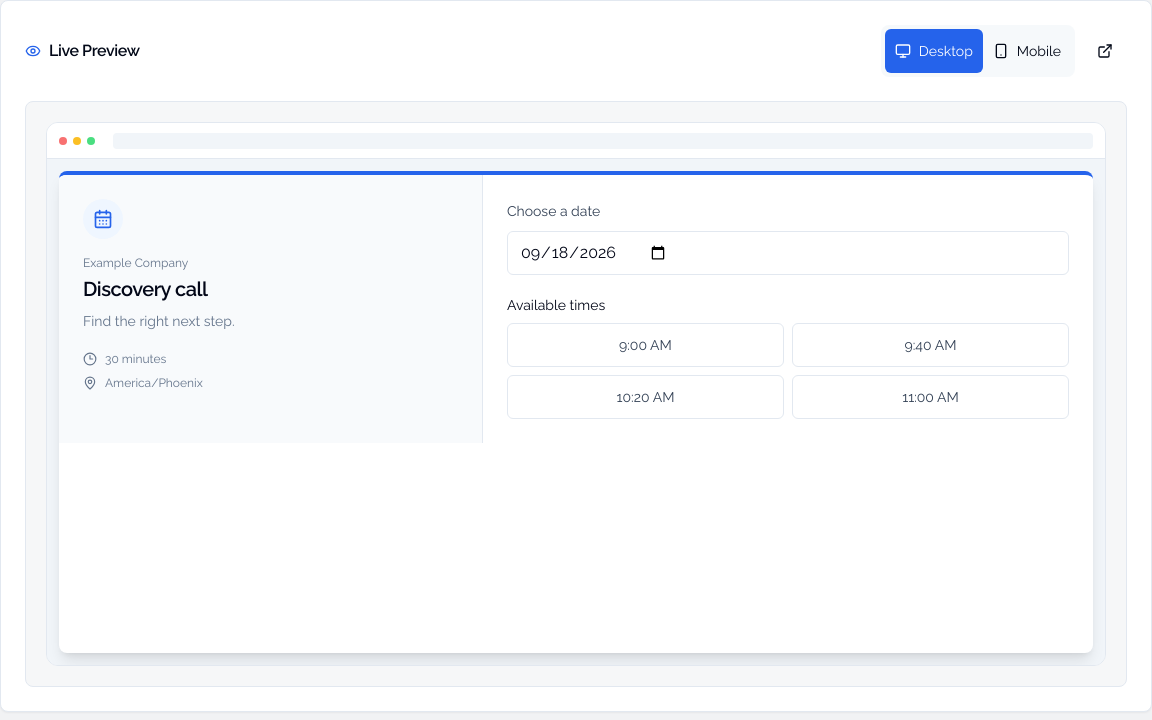
Scenario: CalendarBookingPreview › renders the current calendar draft and supports device and booking interactions
Expected: the heading "Live Preview" is shown, [25,43,140,59]
Expected: the heading "Discovery call" is shown, [83,277,208,301]
Click the button with aria-label "Mobile calendar preview" at (1027, 51), box [983,29,1071,73]
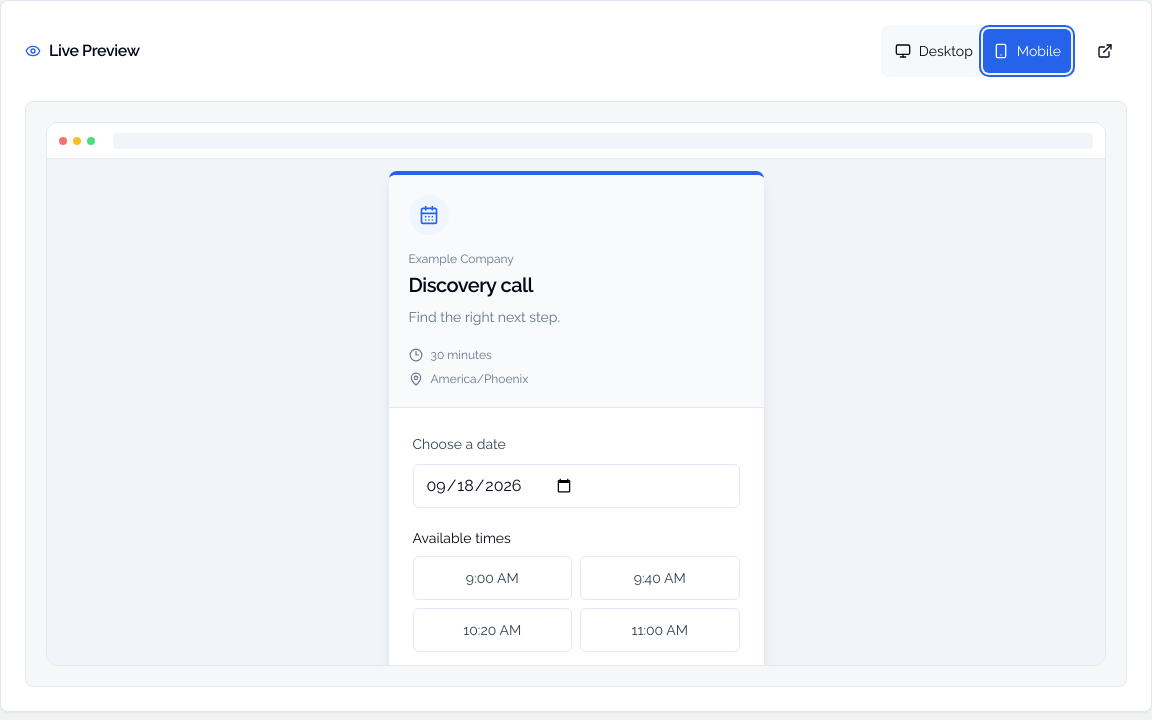
Now the button with aria-label "Mobile calendar preview" is pressed, box [983,29,1071,73]
Click the button "9:00 AM" at (492, 578), box [412,556,572,600]
(page scrolled)
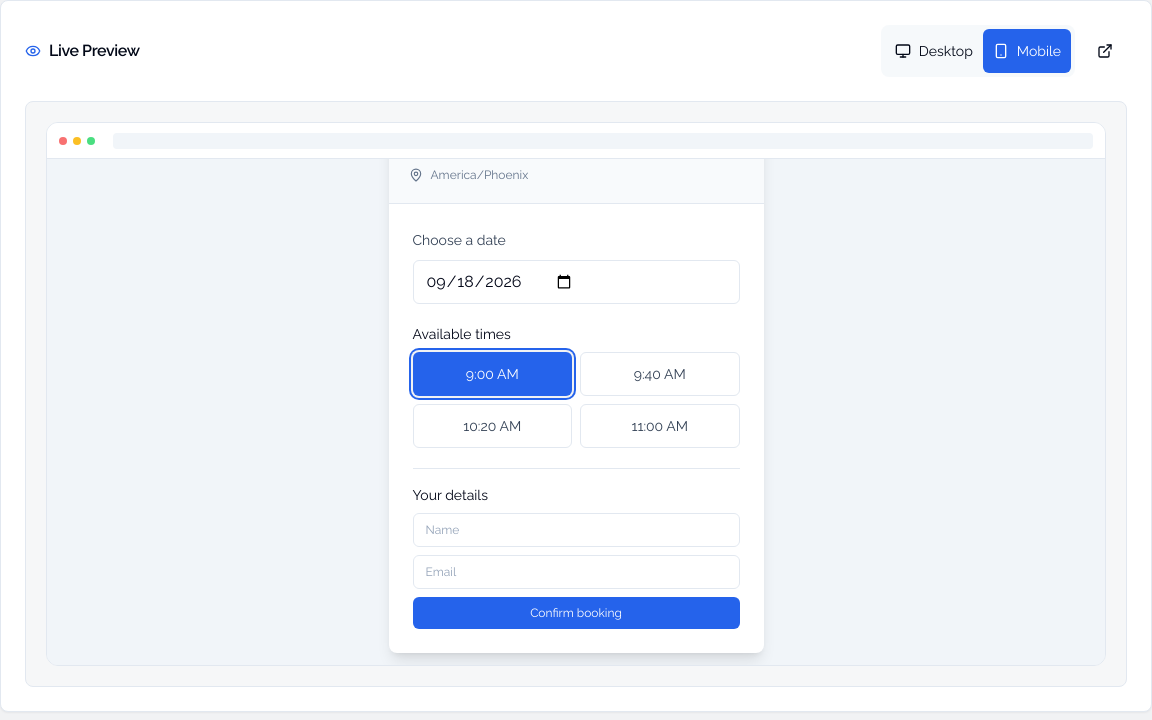
Now the text "Your details" is shown, box [412,487,488,503]
Now the text "Confirm booking" is shown, box [412,597,740,629]
